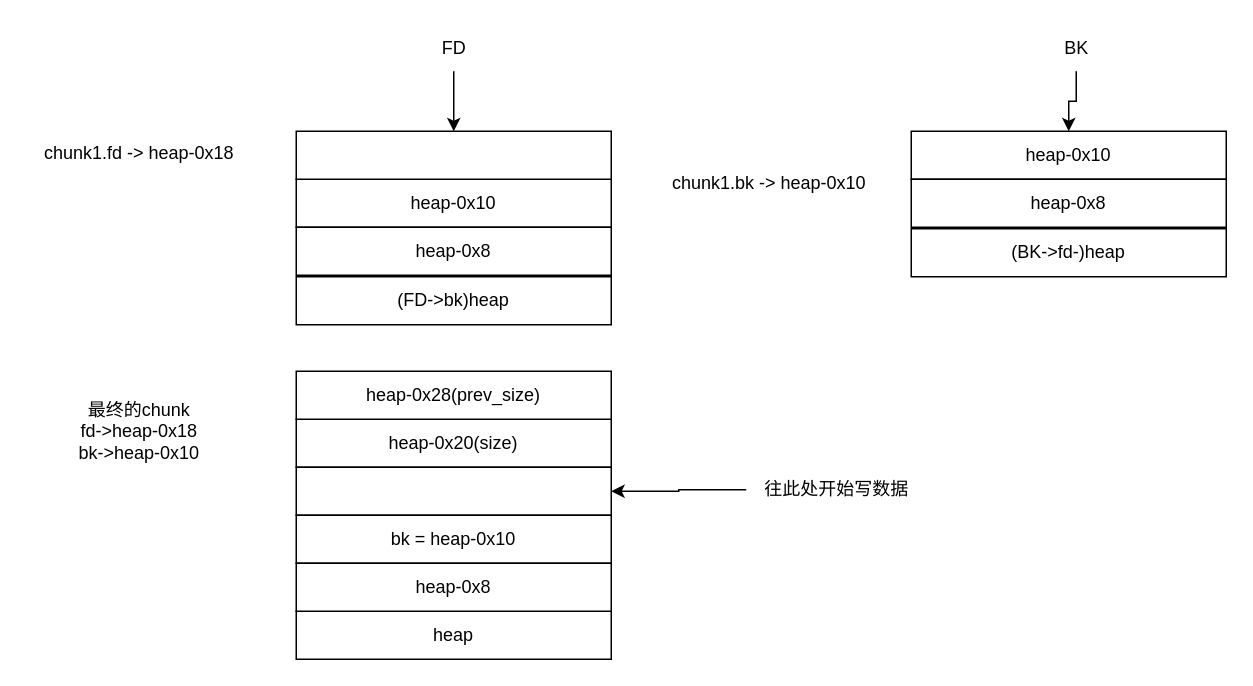
Some shapes in this 1253 by 686 pixel diagram are drawn without their labels. Each missing label, with the box of its shape:
fd = heap-0x18: (295, 466, 611, 515)
heap-0x18: (295, 130, 611, 179)
